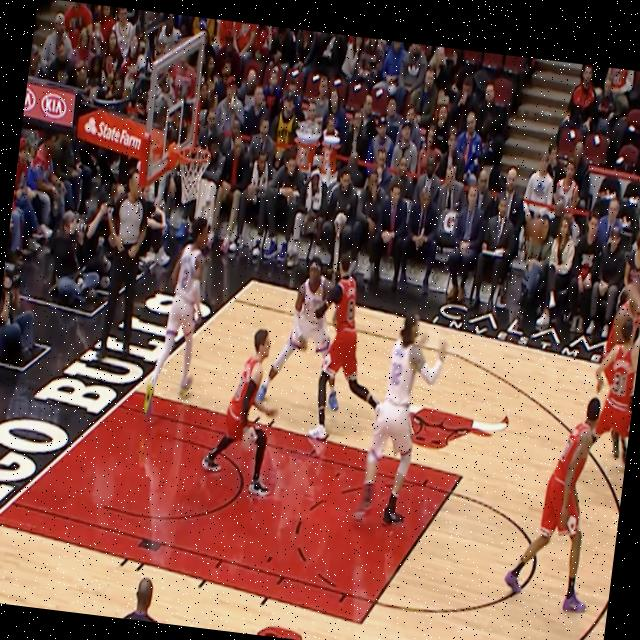no foul: (259, 230, 388, 460)
